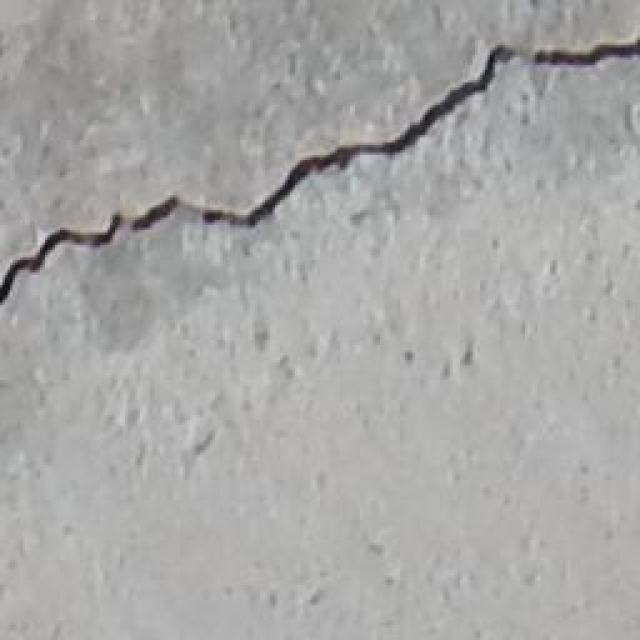concrete-crack: (128, 38, 640, 232), (0, 215, 122, 302)
